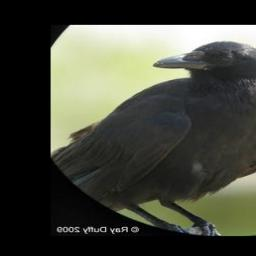Crow: (53, 40, 256, 235)
